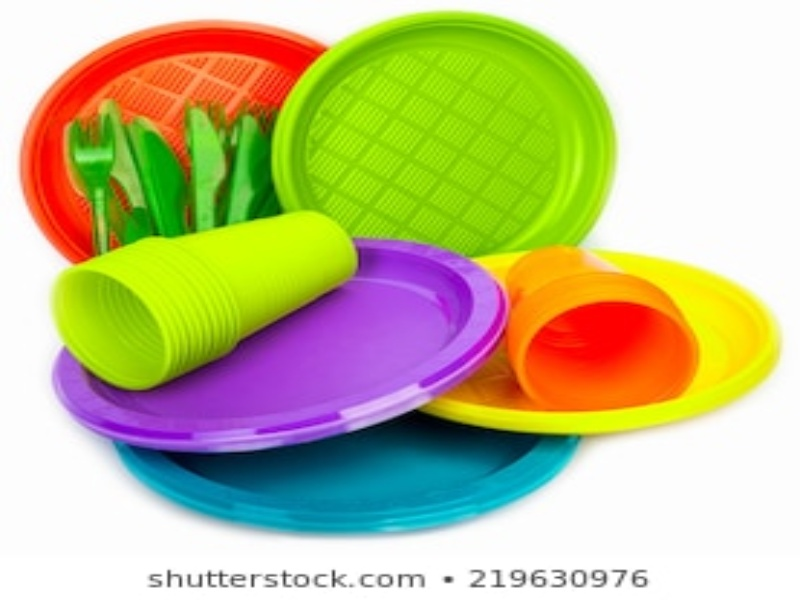plastic-cup: (55, 209, 360, 389), (504, 248, 702, 410)
plastic-plate: (49, 234, 507, 452), (270, 9, 618, 248), (15, 18, 328, 263), (417, 252, 785, 434), (115, 423, 586, 536)
